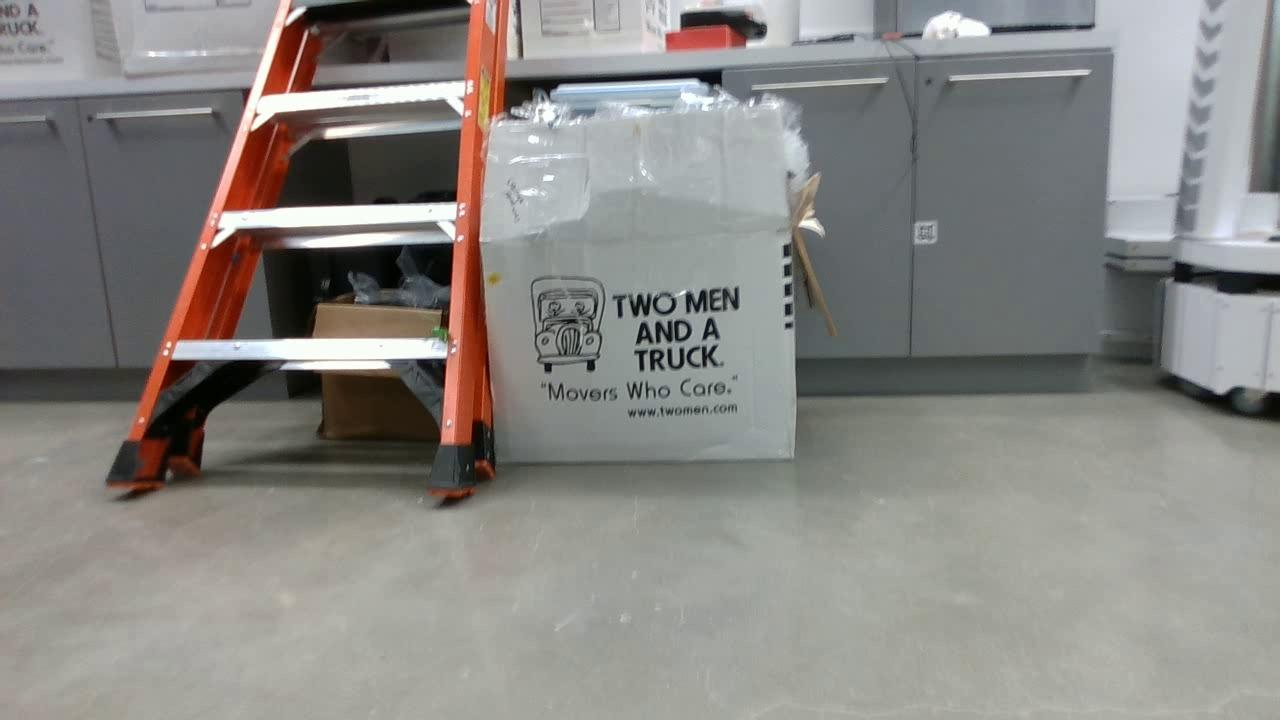grasshopper: (424, 320, 451, 342)
